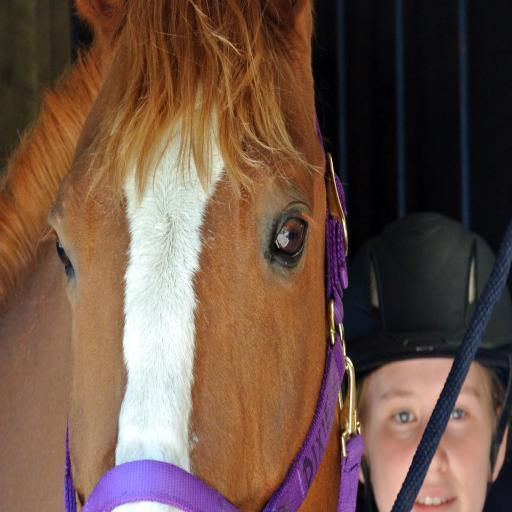horse: (0, 0, 363, 512)
